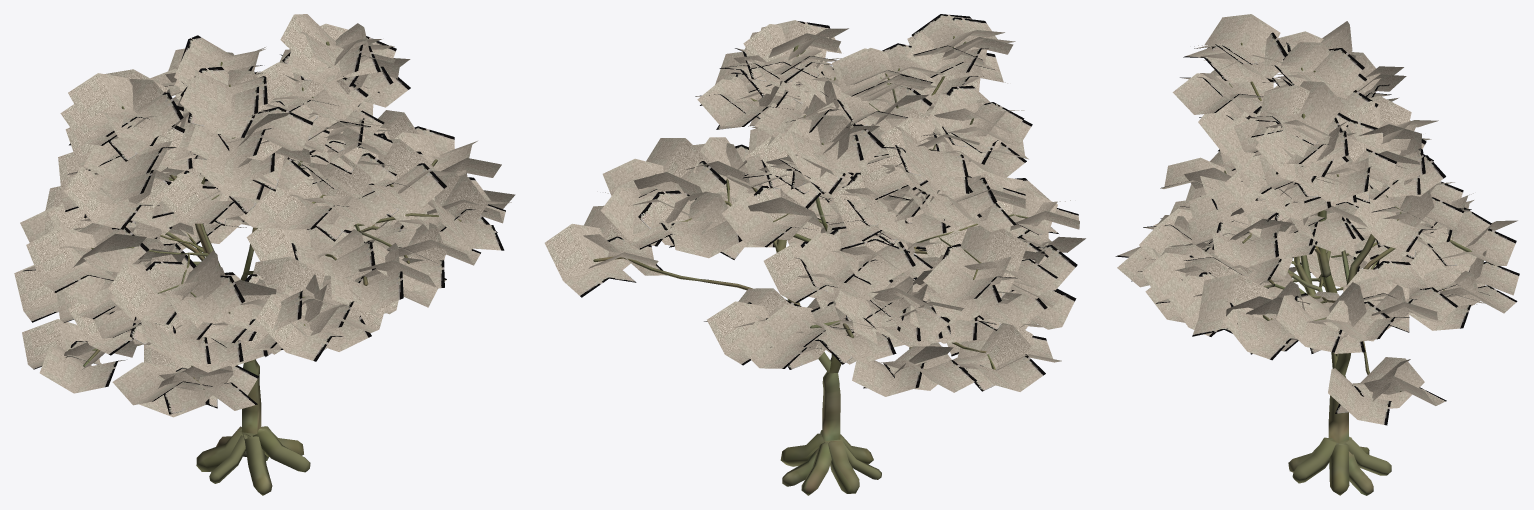
File: Sonnerat.obj
The picture shows the model from 3 angles, left to right: view 1: azimuth 30°, elevation 25°; view 2: azimuth 150°, elevation 25°; view 3: azimuth 270°, elevation 25°; orthographic projection. The views are drawn at different scales.
Parts seen in each view (by area): view 1: Sonnerat; view 2: Sonnerat; view 3: Sonnerat.
Boxes of the visible parts, x1,y1,x2,y2 form: Sonnerat: (14,14,515,495); Sonnerat: (544,14,1085,495); Sonnerat: (1115,14,1519,495).
Size of the model in its own units: 11.79 by 10.71 by 9.32.
Materials: 1 (1 with a texture image).
